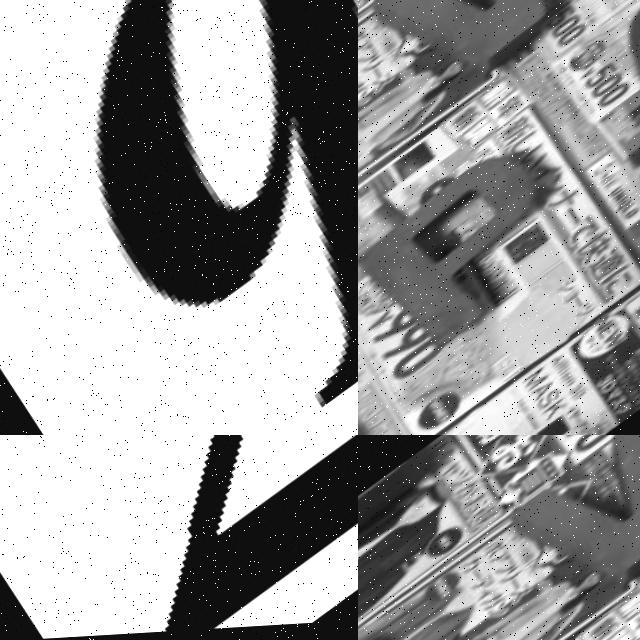P: (360, 147, 585, 357)
Q: (0, 0, 358, 435)
V: (497, 435, 640, 627), (359, 0, 593, 116)
Z: (0, 435, 358, 640)
